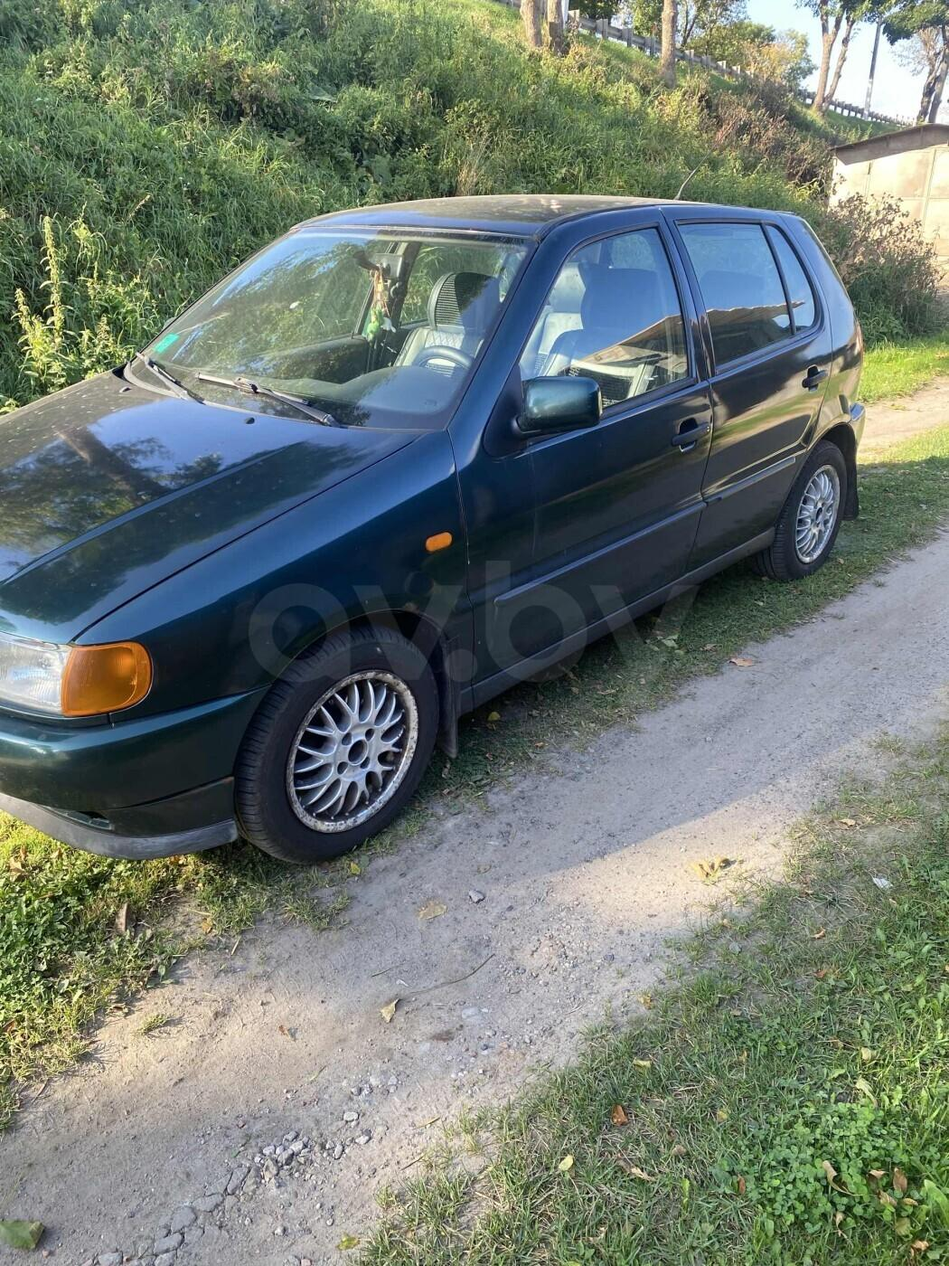Polo_1994-2002: (0, 178, 886, 893)
